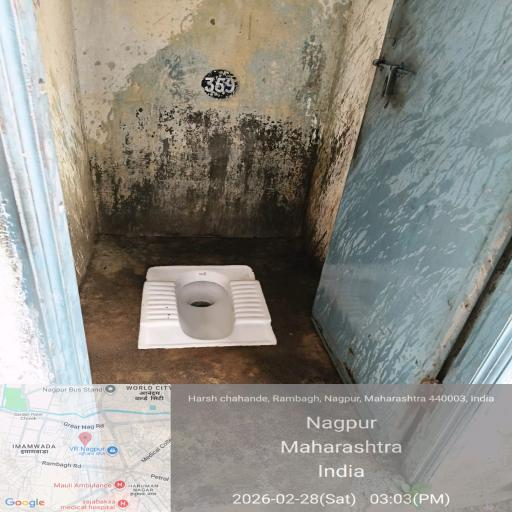clean_indian: (108, 257, 297, 369)
dirty_floor: (22, 2, 374, 248)
partial_dirty_floor: (57, 378, 427, 512)
